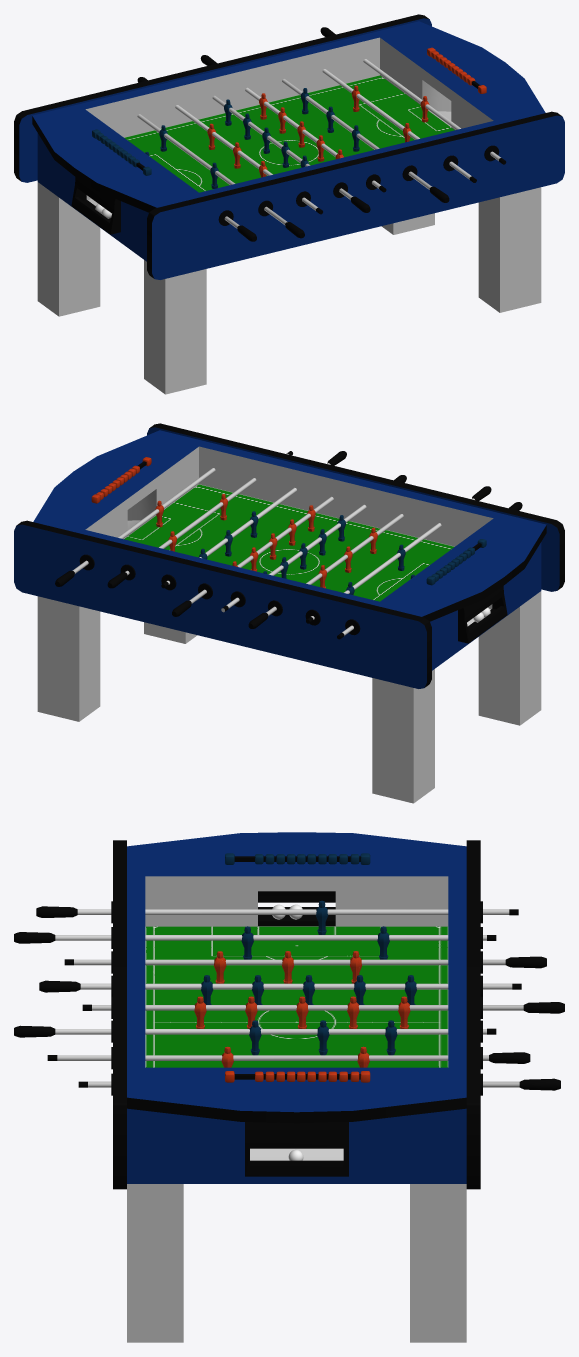
Rendered from foosball.glb.
3 renders of one model, top to bottom at view 1: azimuth 30°, elevation 25°; view 2: azimuth 150°, elevation 25°; view 3: azimuth 270°, elevation 25°, orthographic. The views are drawn at different scales.
Parts seen in each view (by area): view 1: biliardino_0; view 2: biliardino_0; view 3: biliardino_0.
Boxes of the visible parts, x1,y1,x2,y2 form: biliardino_0: [14, 14, 564, 394]; biliardino_0: [14, 423, 564, 803]; biliardino_0: [14, 832, 564, 1342].
Size of the model in its own units: 3.9 by 1.67 by 3.24.
6 materials, 5 textured.
